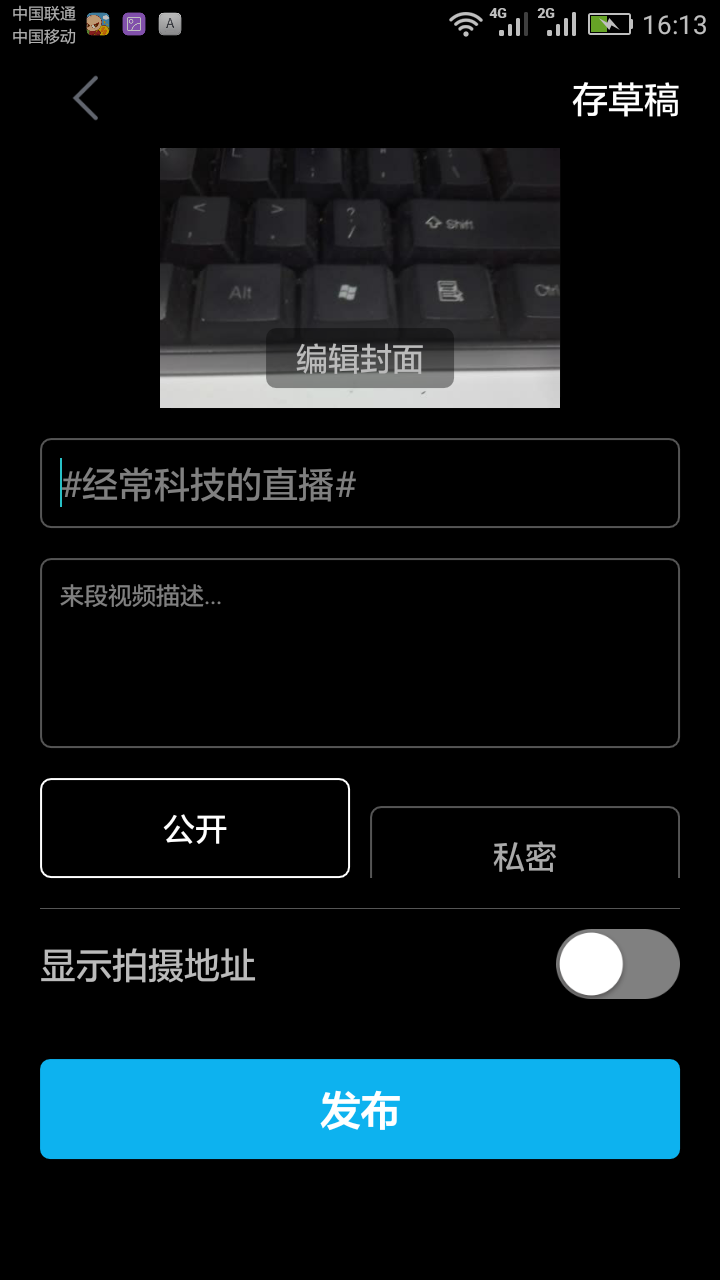button: (33, 1054, 689, 1172)
textview: (33, 425, 682, 541)
